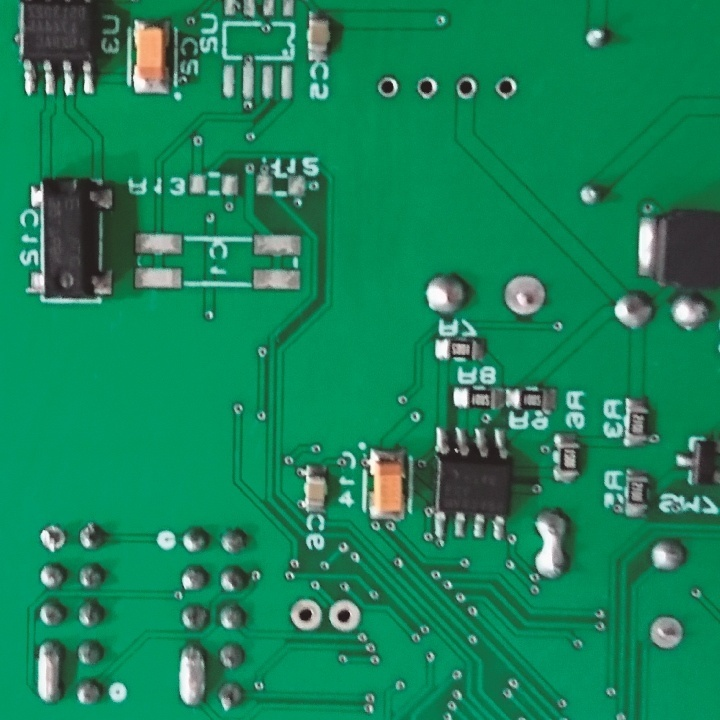F: (503, 272, 547, 322), (649, 612, 684, 654), (286, 596, 322, 632), (328, 598, 361, 632), (37, 523, 67, 552), (451, 72, 479, 103), (416, 72, 439, 103), (494, 72, 516, 103), (375, 74, 400, 100)
P: (533, 506, 570, 584), (32, 636, 64, 706), (176, 640, 207, 708)
